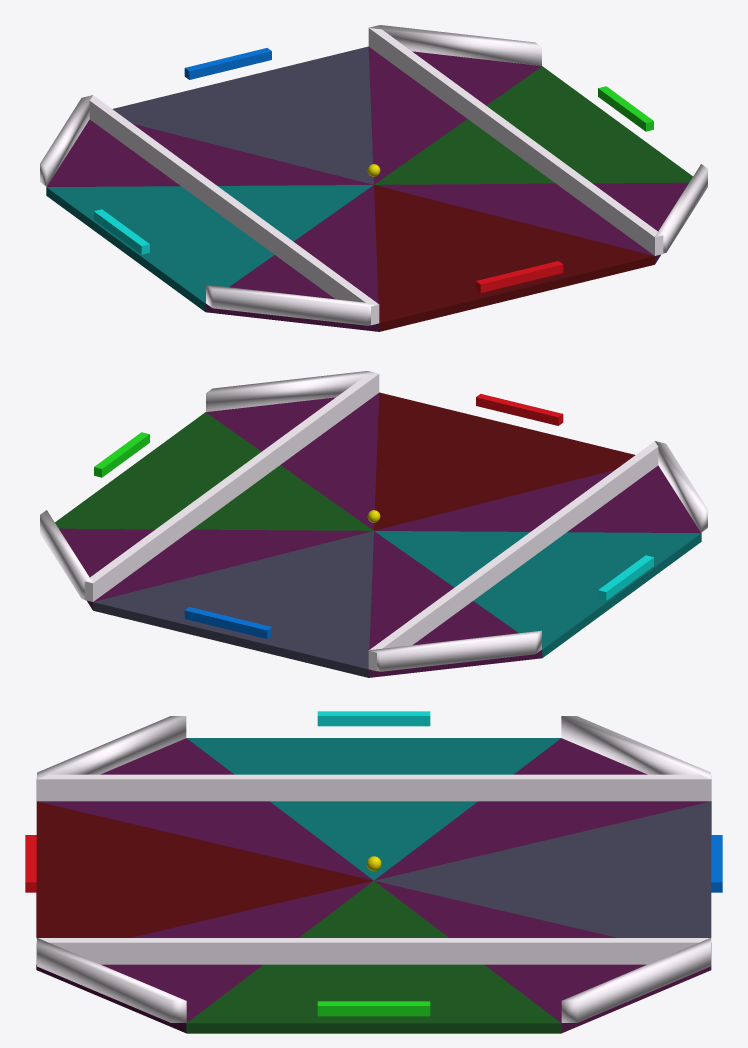
The model's file is pong4p.glb.
3 views of the same model, one above another, from view 1: azimuth 30°, elevation 25°; view 2: azimuth 150°, elevation 25°; view 3: azimuth 270°, elevation 25° (orthographic). The views are drawn at different scales.
Visible parts, largest first — view 1: court, wall2.001, wall1.001, wall3, wall2, wall4, wall1, paddle2, paddle1, paddle4, paddle3; view 2: court, wall2.001, wall1.001, wall4, wall1, wall3, wall2, paddle2, paddle1, paddle4, paddle3; view 3: court, wall1.001, wall2.001, wall2, wall1, wall3, wall4, paddle4, paddle3, paddle2, paddle1.
Part boxes in pixels (<box>): court: <box>46,46,692,331</box>; wall2.001: <box>368,28,663,255</box>; wall1.001: <box>89,95,379,325</box>; wall3: <box>206,284,378,325</box>; wall2: <box>369,25,541,65</box>; wall4: <box>40,95,92,186</box>; wall1: <box>655,164,707,253</box>; paddle2: <box>184,48,271,79</box>; paddle1: <box>476,261,563,292</box>; paddle4: <box>94,209,149,254</box>; paddle3: <box>598,86,653,131</box>; court: <box>55,392,701,677</box>; wall2.001: <box>84,374,379,601</box>; wall1.001: <box>368,441,658,671</box>; wall4: <box>369,630,541,671</box>; wall1: <box>206,371,378,411</box>; wall3: <box>655,441,707,532</box>; wall2: <box>40,510,92,599</box>; paddle2: <box>184,607,271,638</box>; paddle1: <box>476,394,563,425</box>; paddle4: <box>598,555,653,600</box>; paddle3: <box>94,432,149,477</box>; court: <box>36,738,711,1033</box>; wall1.001: <box>36,774,711,801</box>; wall2.001: <box>36,938,711,964</box>; wall2: <box>561,938,710,1022</box>; wall1: <box>37,938,186,1022</box>; wall3: <box>37,716,186,778</box>; wall4: <box>561,716,710,778</box>; paddle4: <box>317,711,430,726</box>; paddle3: <box>317,1001,430,1016</box>; paddle2: <box>711,835,722,892</box>; paddle1: <box>25,835,36,892</box>.
Size of the model in its own units: 19.2 by 1 by 19.2.
